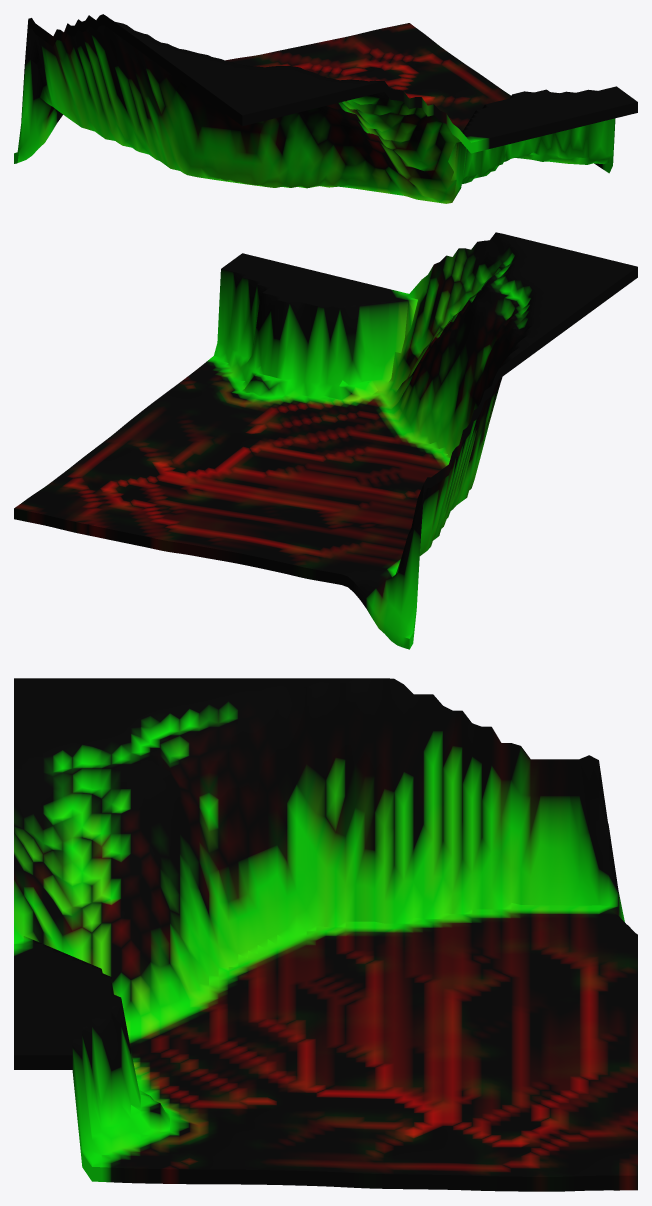
File: Terrain_05_06.fbx
The picture shows the model from 3 angles, top to bottom: view 1: azimuth 30°, elevation 25°; view 2: azimuth 150°, elevation 25°; view 3: azimuth 270°, elevation 25°; orthographic projection. The views are drawn at different scales.
Parts seen in each view (by area): view 1: Terrain_05_06_LOD0; view 2: Terrain_05_06_LOD0; view 3: Terrain_05_06_LOD0.
Boxes of the visible parts, x1,y1,x2,y2 form: Terrain_05_06_LOD0: [14, 14, 637, 203]; Terrain_05_06_LOD0: [14, 232, 637, 649]; Terrain_05_06_LOD0: [14, 678, 637, 1191].
Size of what is drawn, in the model's own units: 384 by 200 by 384.
